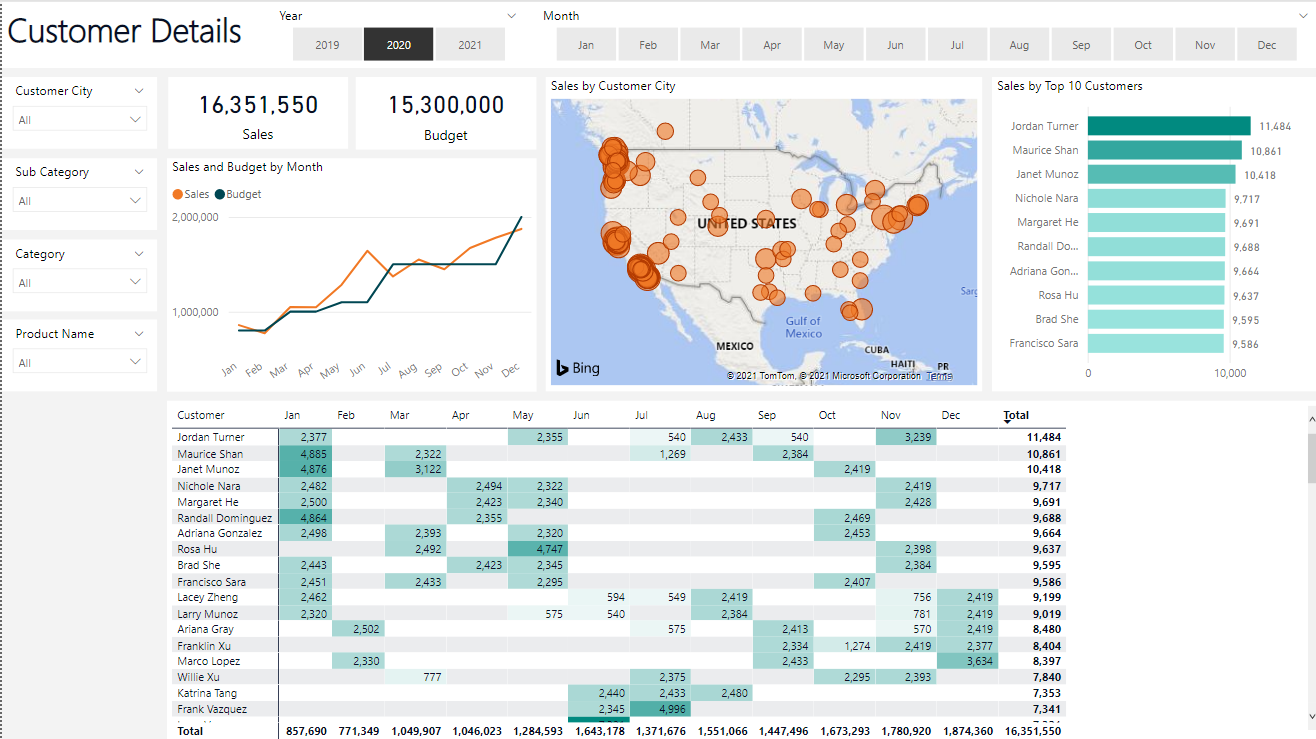

The dashboard page shown, as its layout file describes it:
{"tool":"powerbi","page":{"name":"Customer Details","canvas":[1280,720],"ordinal":1},"visuals":[{"type":"textbox","box":[0,0,1280,64],"z":0},{"type":"slicer","fields":{"Values":["DIM_Calendar.Year"]},"box":[256,0,256,64],"z":1000},{"type":"slicer","fields":{"Values":["DIM_Calendar.MonthShort"]},"box":[512,0,768,64],"z":2000},{"type":"slicer","fields":{"Values":["DIM_Customers.Customer City"]},"box":[0,73,150.5,69.3],"z":3000},{"type":"slicer","fields":{"Values":["DIM_Products.Product Category"]},"box":[0,229.9,150.5,69.3],"z":4000},{"type":"slicer","fields":{"Values":["DIM_Products.Product Name"]},"box":[0,308.4,150.5,69.3],"z":5000},{"type":"slicer","fields":{"Values":["DIM_Products.Sub Category"]},"box":[0,151.4,150.5,69.3],"z":6000},{"type":"lineChart","fields":{"Category":["DIM_Calendar.MonthShort"],"Y":["Analysis Metrics.Sales","Analysis Metrics.Budget"]},"box":[159.8,151.8,358.7,226.4],"z":7000},{"type":"card","fields":{"Values":["Analysis Metrics.Sales"]},"box":[160.7,72.8,174,69.2],"z":8000},{"type":"map","fields":{"Category":["DIM_Customers.Customer City"],"Size":["Analysis Metrics.Sales"]},"box":[527.3,72.8,423.5,304.5],"z":9000},{"type":"card","fields":{"Values":["Analysis Metrics.Budget"]},"box":[343.6,72.8,174.9,70.1],"z":10000},{"type":"pivotTable","fields":{"Rows":["DIM_Customers.Full Name"],"Columns":["DIM_Calendar.MonthShort"],"Values":["Analysis Metrics.Sales"]},"box":[159.8,387.1,1120.4,332.9],"z":11000},{"type":"barChart","title":"Sales by Top 10 Customers","fields":{"Category":["DIM_Customers.Full Name"],"Y":["Analysis Metrics.Sales"]},"box":[959.7,72.8,320.5,304.5],"z":12000}]}

Visuals, with their boxes in screenshot pixels (x1, y1, x2, y2), scaled from the page's 1280x720 canvas onto the 1316x739 screenshot:
textbox: {"x1": 0, "y1": 0, "x2": 1315, "y2": 66}
slicer - DIM_Calendar.Year: {"x1": 263, "y1": 0, "x2": 526, "y2": 66}
slicer - DIM_Calendar.MonthShort: {"x1": 526, "y1": 0, "x2": 1315, "y2": 66}
slicer - DIM_Customers.Customer City: {"x1": 0, "y1": 75, "x2": 155, "y2": 146}
slicer - DIM_Products.Product Category: {"x1": 0, "y1": 236, "x2": 155, "y2": 307}
slicer - DIM_Products.Product Name: {"x1": 0, "y1": 317, "x2": 155, "y2": 388}
slicer - DIM_Products.Sub Category: {"x1": 0, "y1": 155, "x2": 155, "y2": 227}
lineChart - DIM_Calendar.MonthShort x Analysis Metrics.Sales: {"x1": 164, "y1": 156, "x2": 533, "y2": 388}
card - Analysis Metrics.Sales: {"x1": 165, "y1": 75, "x2": 344, "y2": 146}
map - DIM_Customers.Customer City x Analysis Metrics.Sales: {"x1": 542, "y1": 75, "x2": 978, "y2": 387}
card - Analysis Metrics.Budget: {"x1": 353, "y1": 75, "x2": 533, "y2": 147}
pivotTable - DIM_Customers.Full Name x DIM_Calendar.MonthShort: {"x1": 164, "y1": 397, "x2": 1315, "y2": 738}
"Sales by Top 10 Customers" barChart: {"x1": 987, "y1": 75, "x2": 1315, "y2": 387}
